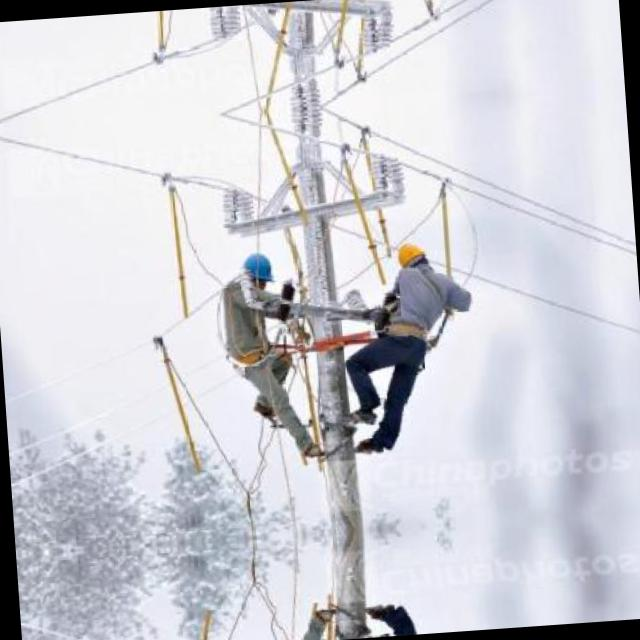helmet: (236, 244, 276, 292), (392, 238, 428, 276)
